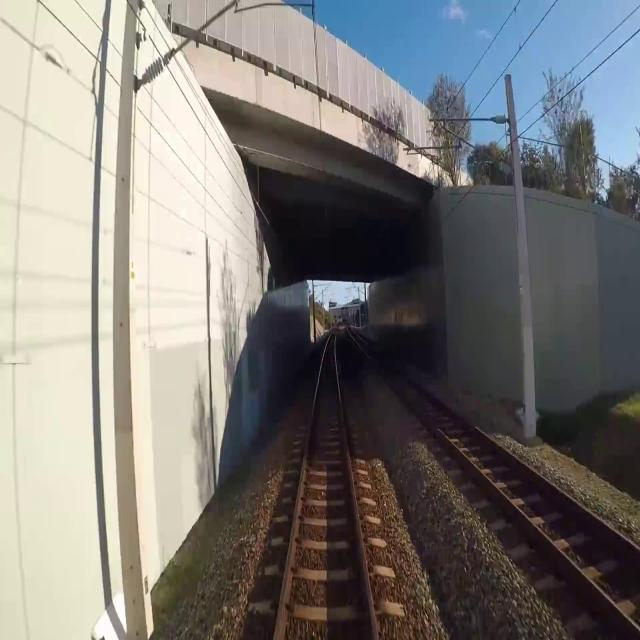rail-track: (349, 328, 640, 622), (279, 332, 373, 639)
